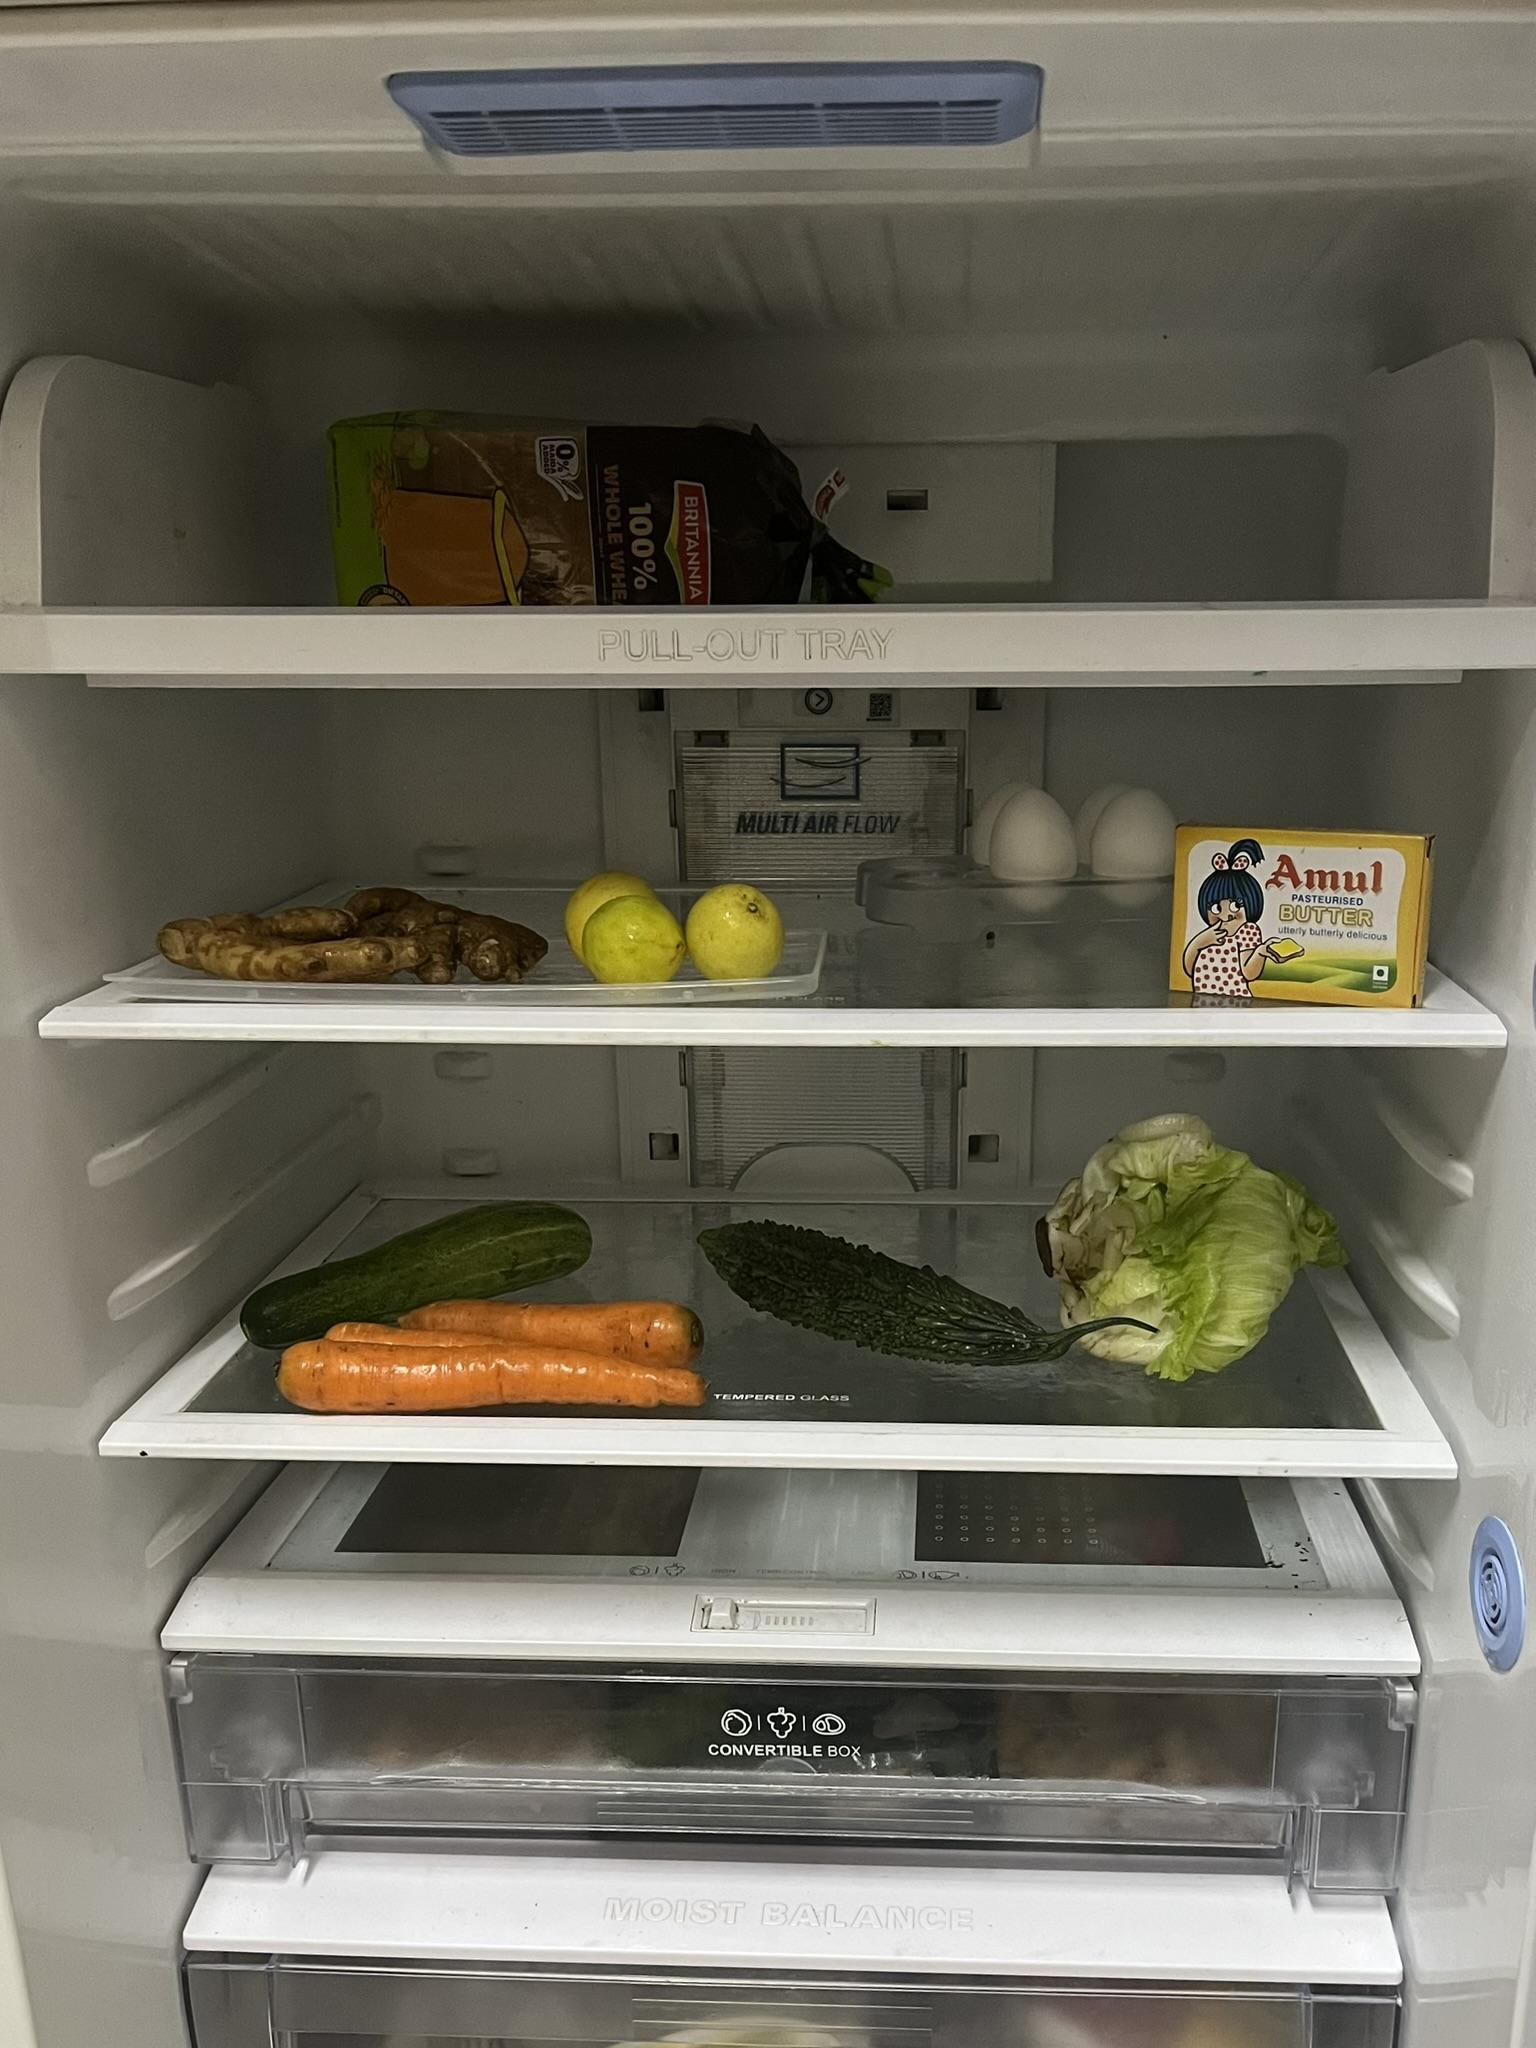bitter gaurd: (700, 1197, 1073, 1371)
bread: (319, 406, 883, 606)
butter: (1173, 824, 1423, 1013)
carrots: (269, 1300, 703, 1416)
cucumber: (250, 1203, 600, 1350)
egg: (973, 787, 1173, 903)
ginger: (153, 880, 553, 980)
lemon: (560, 884, 779, 984)
lettuce: (1041, 1113, 1294, 1377)
